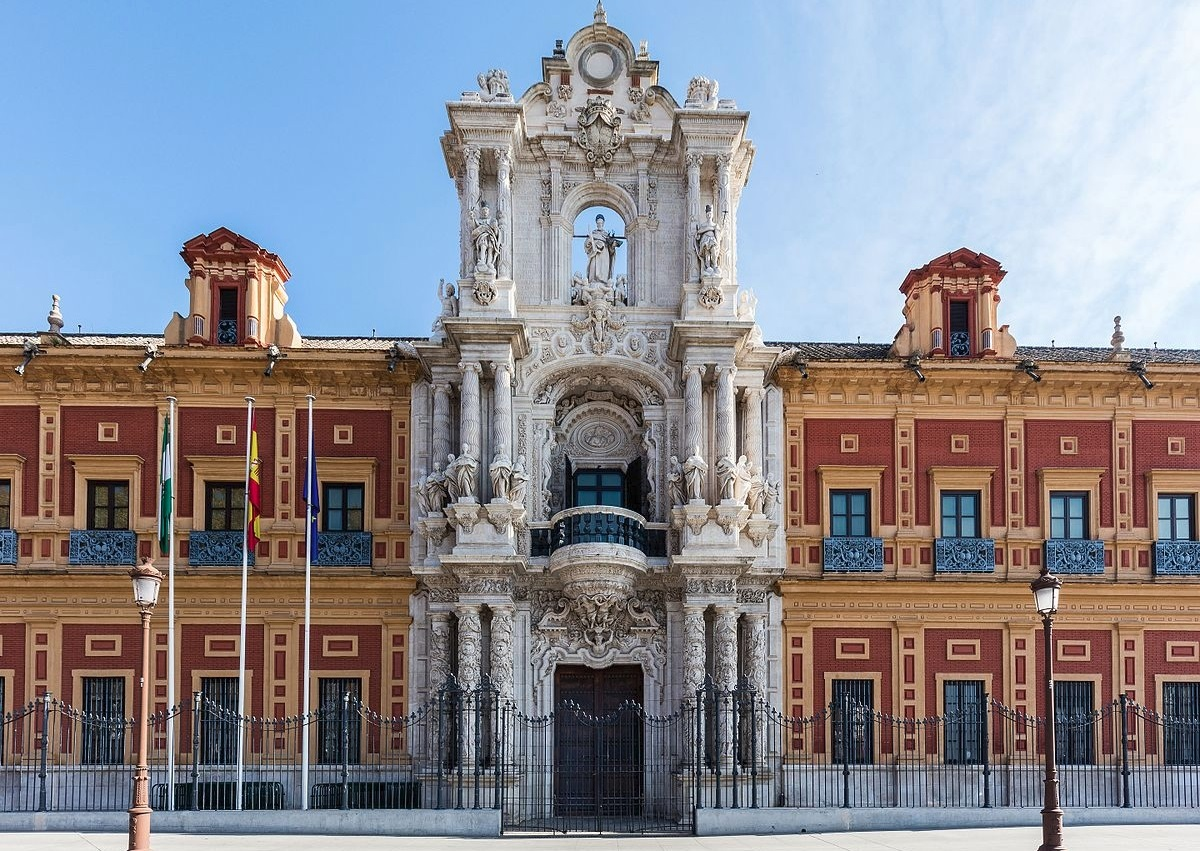arco-medio-punto: (560, 180, 640, 236)
fronton-partido: (181, 225, 262, 257), (926, 244, 1002, 274)
vano-adintelado: (63, 451, 146, 573), (182, 451, 260, 575), (301, 455, 380, 573), (924, 463, 1001, 583), (813, 461, 890, 580), (1034, 463, 1110, 580), (68, 664, 139, 766), (185, 667, 254, 768), (820, 664, 888, 766), (1141, 467, 1200, 582), (307, 666, 373, 768), (932, 667, 999, 766), (1047, 669, 1105, 766), (1150, 669, 1200, 765)
